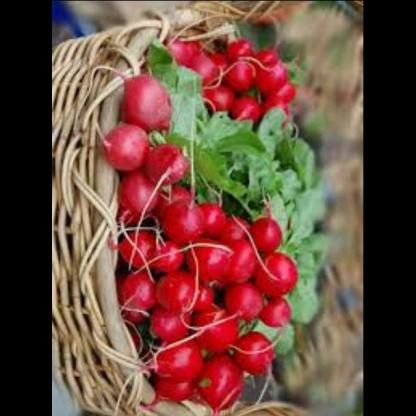rediska: (117, 23, 309, 398)
